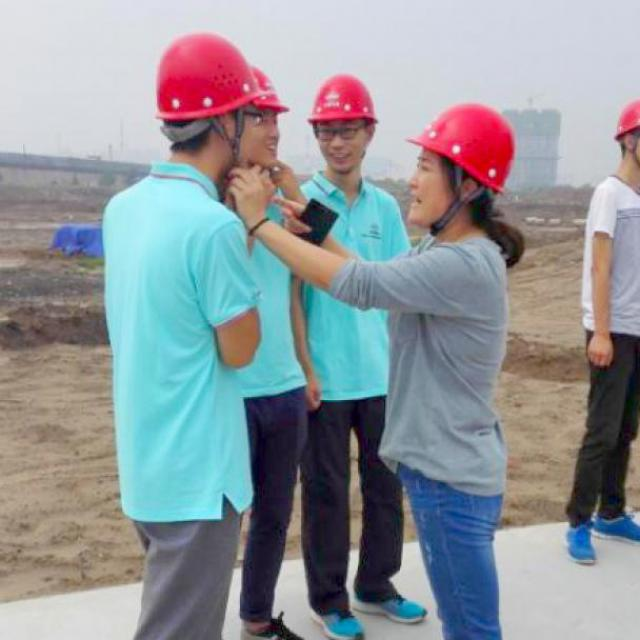helmet: (129, 33, 277, 182), (402, 90, 515, 236), (302, 58, 377, 186), (604, 91, 638, 183)
